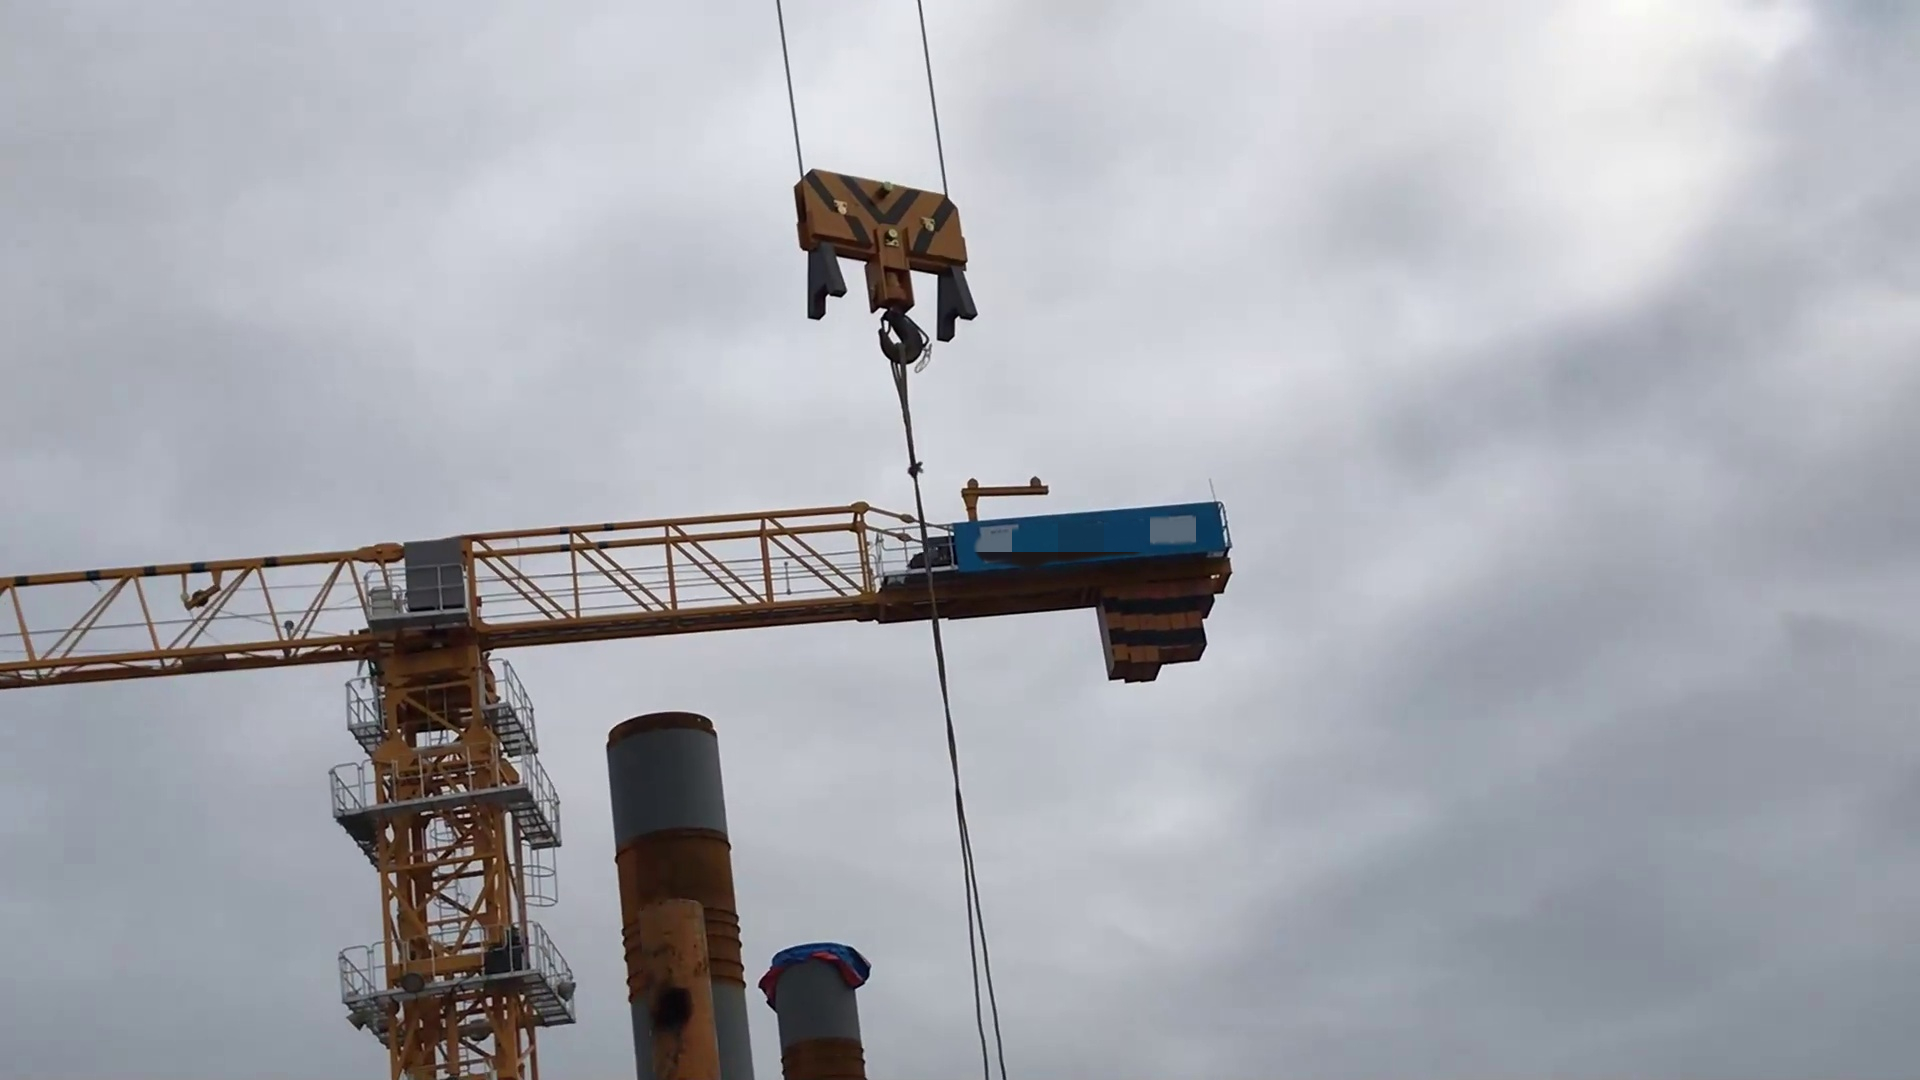hook: (785, 161, 988, 378)
